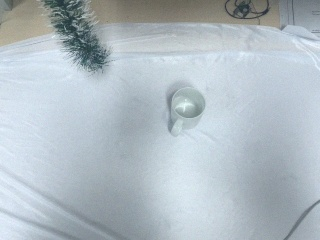cup: (168, 86, 206, 136)
